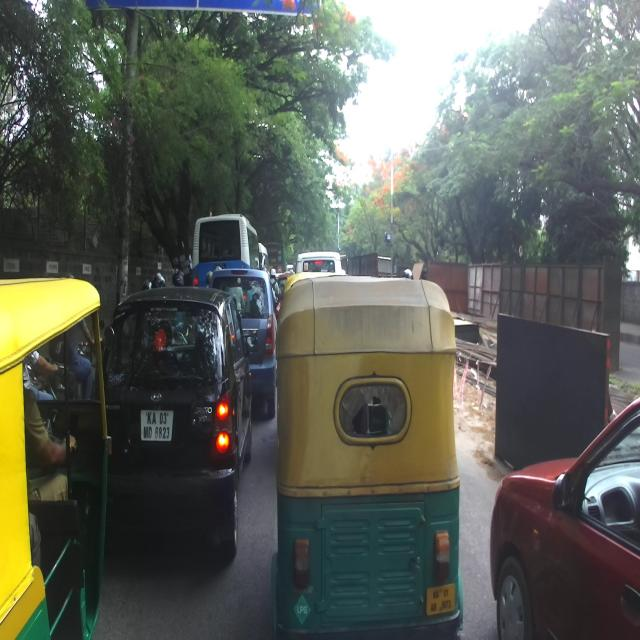Car_Hyundai: (98, 287, 259, 562)
Car_Maruti-Suzuki: (489, 395, 640, 639), (208, 266, 277, 418)
autorickshaw: (271, 272, 464, 640), (0, 276, 115, 638)
bus: (192, 213, 259, 290), (266, 237, 284, 280)
